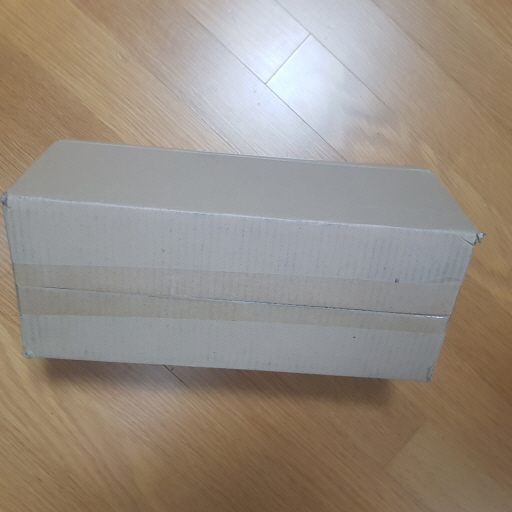Paper_0: (3, 137, 486, 388)
